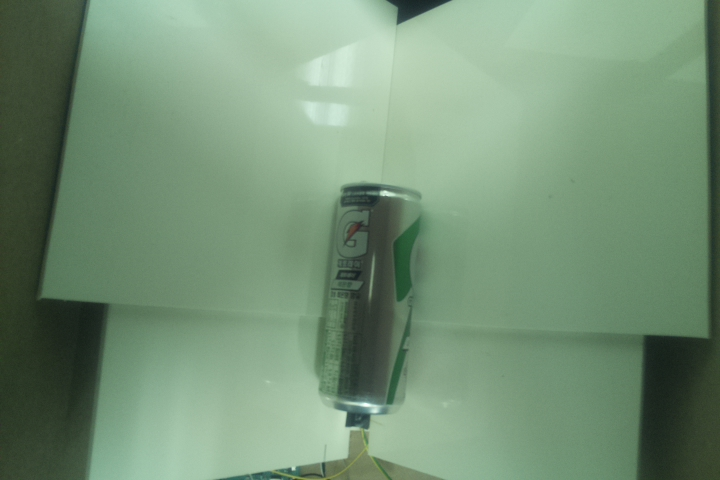can: (316, 181, 425, 414)
